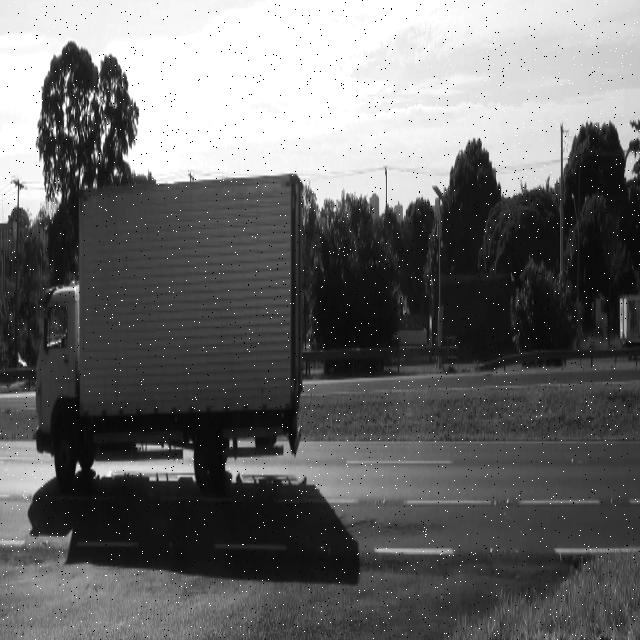-axle: (189, 426, 221, 498), (51, 413, 78, 490)
